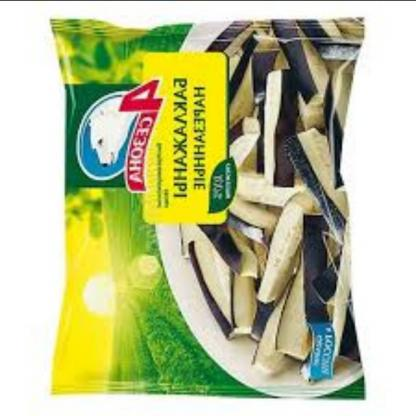eggplant: (181, 24, 368, 385)
